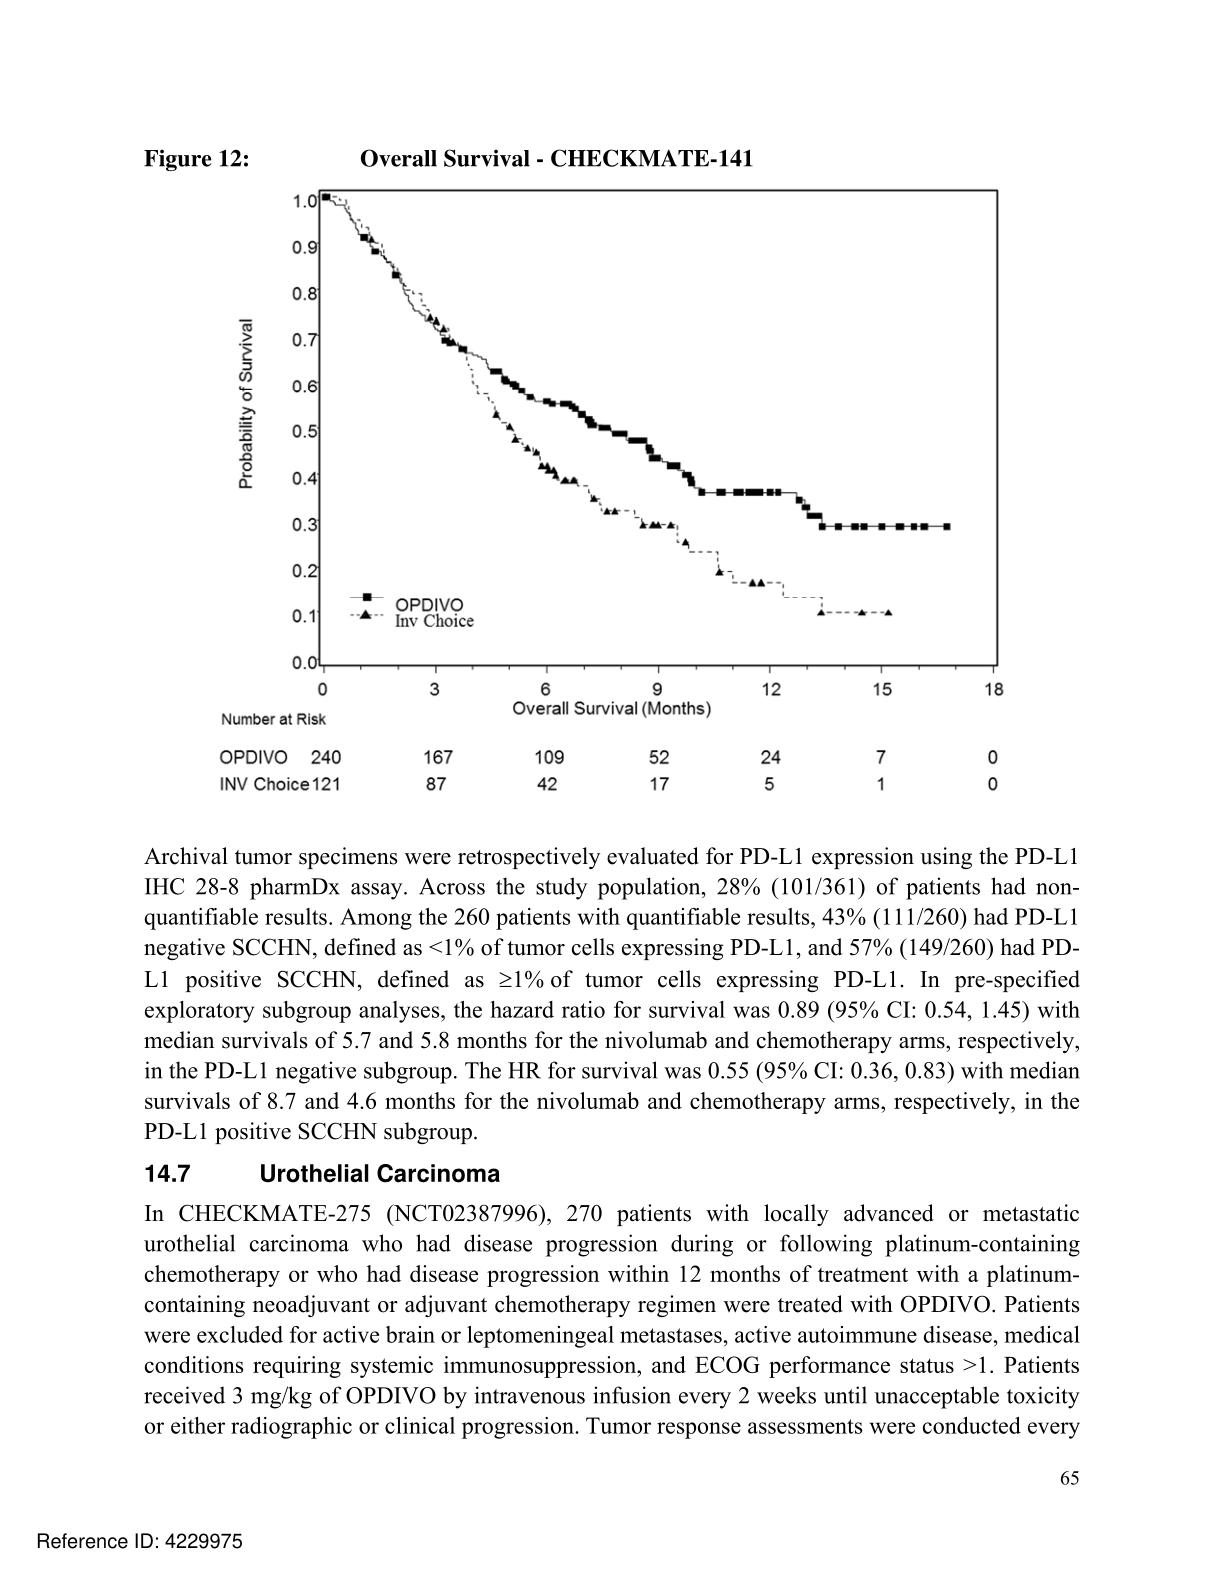nolines: (216, 743, 1002, 796)
